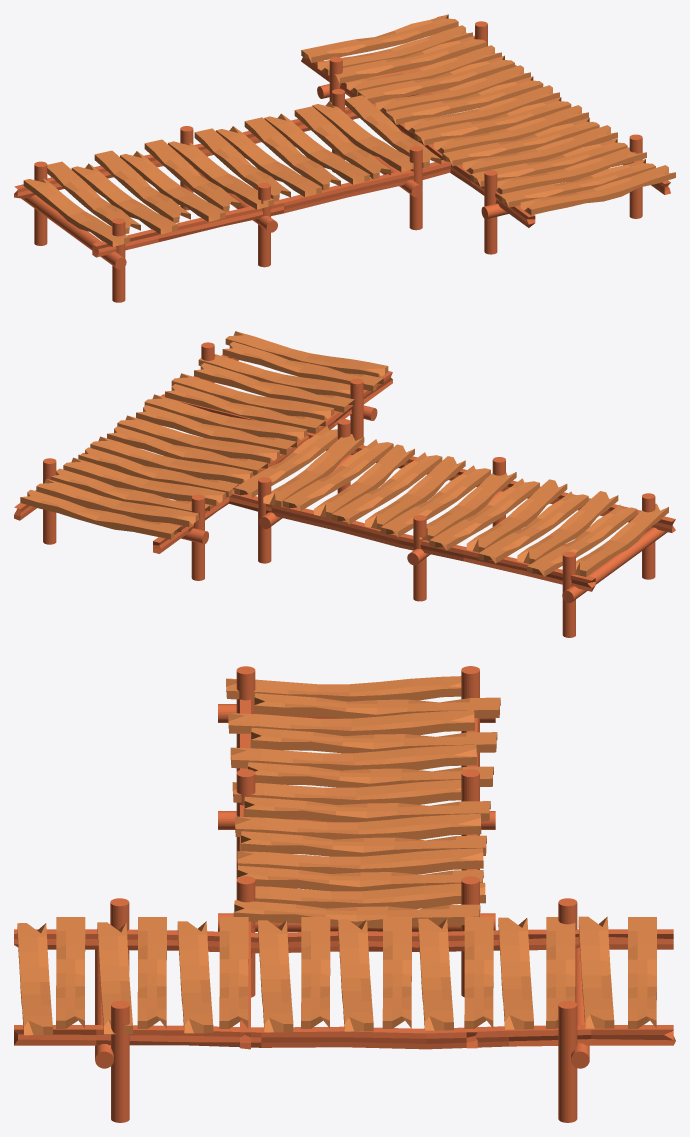
File: T-bridge.fbx
3 views of the same model, one above another, from view 1: azimuth 30°, elevation 25°; view 2: azimuth 150°, elevation 25°; view 3: azimuth 270°, elevation 25° (orthographic). The views are drawn at different scales.
Parts seen in each view (by area): view 1: Plank.009, sideSuport.010; view 2: Plank.009, sideSuport.010; view 3: Plank.009, sideSuport.010.
Boxes of the visible parts, <box> form: Plank.009: <box>23,14,675,246</box>; sideSuport.010: <box>14,16,670,302</box>; Plank.009: <box>20,331,668,576</box>; sideSuport.010: <box>14,342,675,637</box>; Plank.009: <box>17,676,656,1035</box>; sideSuport.010: <box>14,666,675,1122</box>.
Size of the model in its own units: 1141 by 169 by 890.
